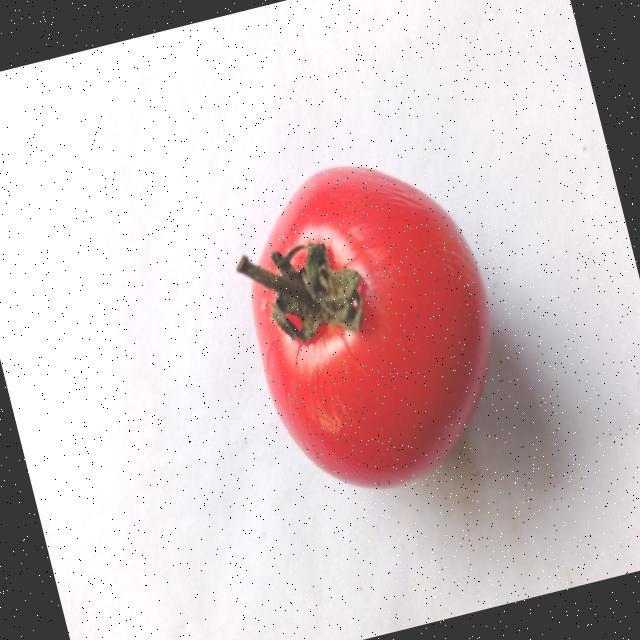Tomato: (202, 130, 528, 517)
